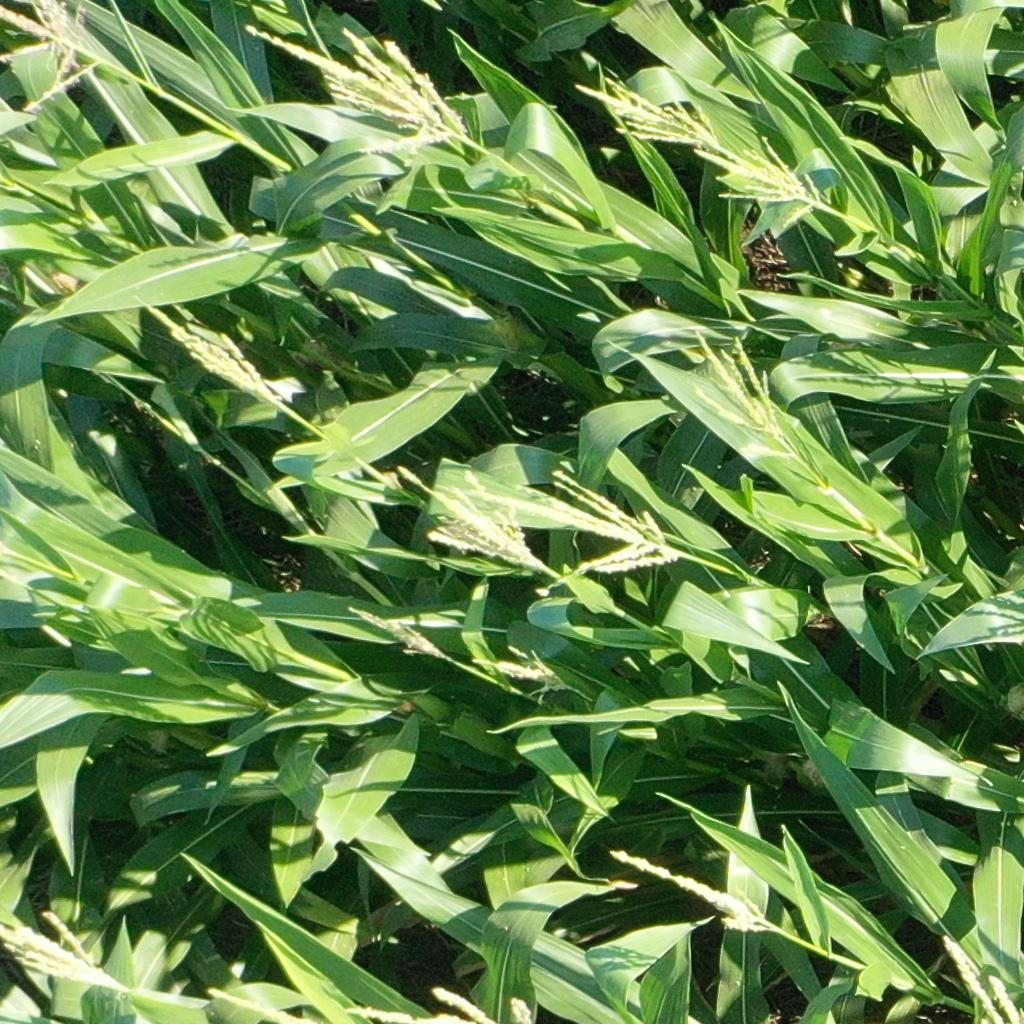Tassel: (243, 21, 473, 152), (457, 459, 683, 578), (601, 840, 776, 932), (397, 463, 542, 574), (143, 298, 286, 405), (695, 131, 834, 235), (681, 329, 792, 448), (570, 66, 725, 151), (1, 906, 132, 997), (1, 1, 115, 105), (342, 978, 540, 1024), (346, 597, 457, 663), (943, 935, 1024, 1024), (468, 639, 578, 697)
